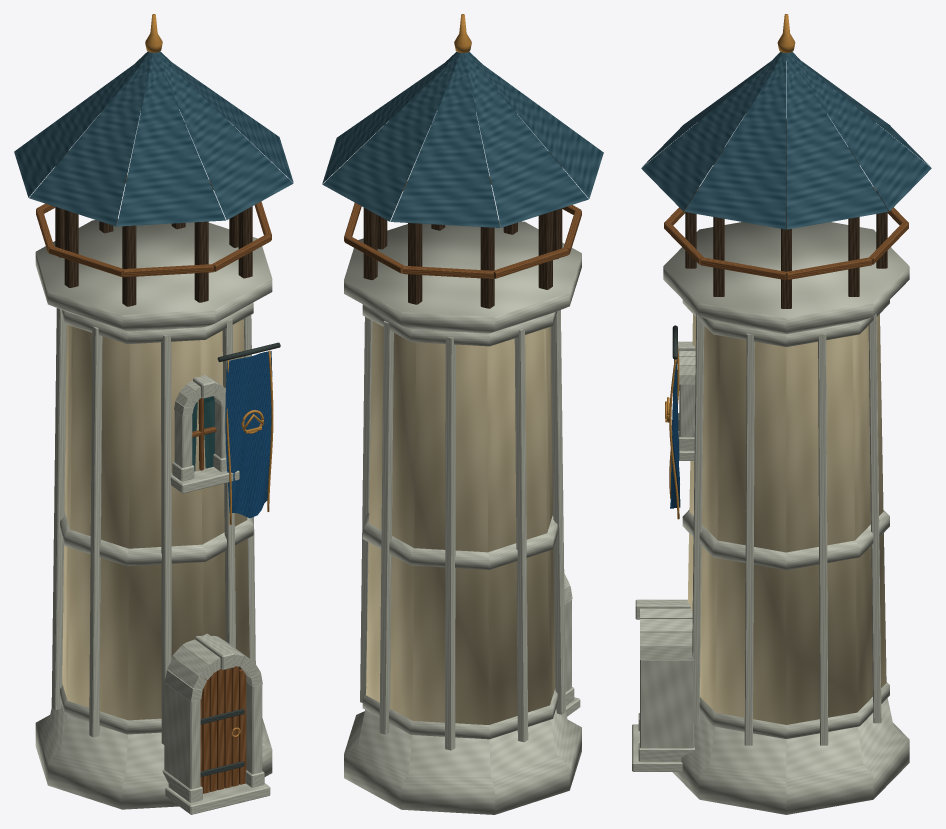
File: watchtower_door_fixed.glb
3 renders of one model, left to right at view 1: azimuth 30°, elevation 25°; view 2: azimuth 150°, elevation 25°; view 3: azimuth 270°, elevation 25°, orthographic.
Parts seen in each view (by area): view 1: harbor_watchtower_Structure, harbor_watchtower_Roof, harbor_watchtower_Joinery, harbor_watchtower_Detail, harbor_watchtower_Cloth, harbor_watchtower_Metalwork, harbor_watchtower_Glazing; view 2: harbor_watchtower_Structure, harbor_watchtower_Roof, harbor_watchtower_Joinery, harbor_watchtower_Detail; view 3: harbor_watchtower_Structure, harbor_watchtower_Roof, harbor_watchtower_Joinery, harbor_watchtower_Detail, harbor_watchtower_Metalwork, harbor_watchtower_Cloth.
Boxes of the visible parts, bbox=[...] form: harbor_watchtower_Structure: bbox=[35, 219, 272, 809]; harbor_watchtower_Roof: bbox=[14, 51, 293, 226]; harbor_watchtower_Joinery: bbox=[36, 123, 271, 793]; harbor_watchtower_Detail: bbox=[162, 375, 270, 814]; harbor_watchtower_Cloth: bbox=[225, 351, 272, 518]; harbor_watchtower_Metalwork: bbox=[145, 14, 280, 776]; harbor_watchtower_Glazing: bbox=[192, 396, 214, 471]; harbor_watchtower_Structure: bbox=[344, 220, 581, 814]; harbor_watchtower_Roof: bbox=[322, 51, 603, 227]; harbor_watchtower_Joinery: bbox=[344, 122, 581, 750]; harbor_watchtower_Detail: bbox=[564, 573, 580, 716]; harbor_watchtower_Structure: bbox=[663, 222, 909, 814]; harbor_watchtower_Roof: bbox=[641, 52, 931, 229]; harbor_watchtower_Joinery: bbox=[664, 119, 908, 745]; harbor_watchtower_Detail: bbox=[632, 341, 702, 771]; harbor_watchtower_Metalwork: bbox=[665, 14, 795, 519]; harbor_watchtower_Cloth: bbox=[670, 359, 680, 508].
Bounding box in the file's own units: 3.9 × 11.07 × 4.02.
3 materials, 3 textured.
